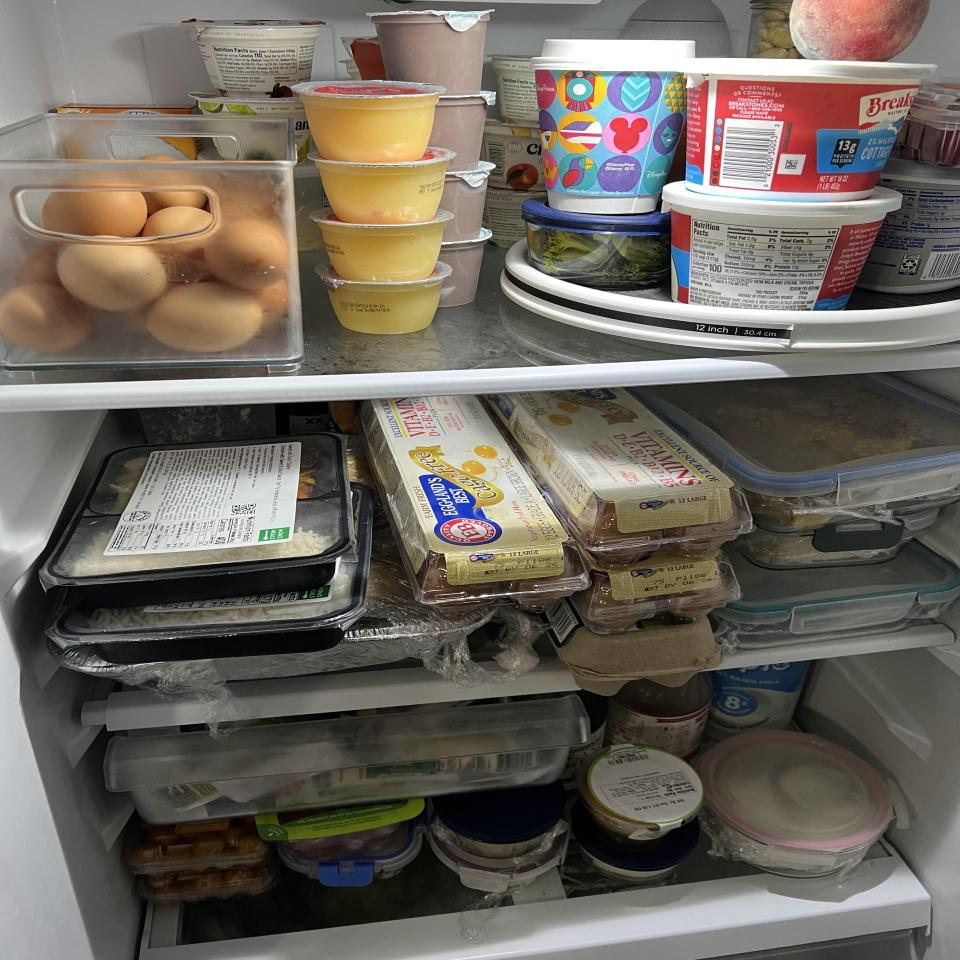Huevos: (5, 150, 297, 360), (365, 395, 581, 607), (510, 392, 747, 557), (552, 619, 718, 694), (578, 560, 740, 625)
